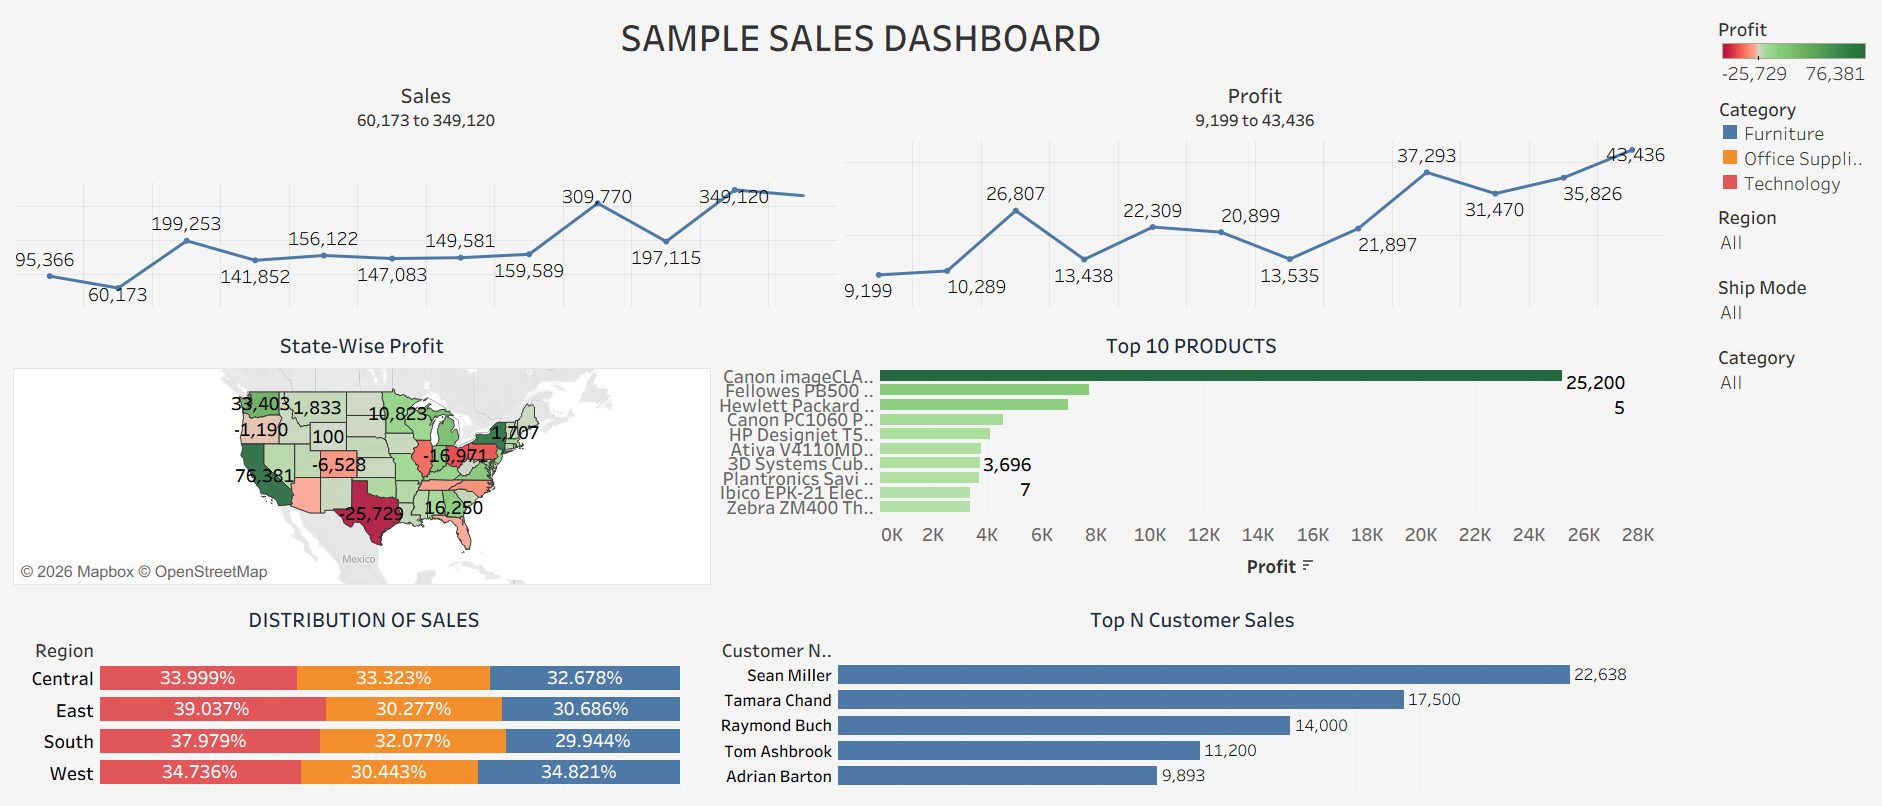

The dashboard page shown, as its layout file describes it:
{"tool":"tableau","page":{"name":"Dashboard 1","canvas":[1000,1000],"units":"permille","ordinal":0},"visuals":[{"type":"title","box":[5.1,10.6,888.2,77.1]},{"type":"legend","title":"State-Wise Profit","param":"[federated.0kkfki10p035gd15ha0as1qthaws].[sum:Profit:qk]","box":[893.3,10.6,101.6,107.7]},{"type":"worksheet","title":"Sales KPI","mark":"Line","rows":["Sales"],"cols":["Order Date"],"box":[5.6,88.1,440.8,299]},{"type":"worksheet","title":"Profit KPI","mark":"Line","rows":["Profit"],"cols":["Order Date"],"box":[446.4,88.1,440.8,299]},{"type":"legend","title":"DISTRIBUTION OF SALES","param":"[federated.0kkfki10p035gd15ha0as1qthaws].[none:Category:nk]","box":[893.3,118.4,101.6,145]},{"type":"filter","title":"State-Wise Profit","param":"[federated.0kkfki10p035gd15ha0as1qthaws].[none:Region:nk]","box":[893.3,263.3,101.6,93.1]},{"type":"filter","title":"State-Wise Profit","param":"[federated.0kkfki10p035gd15ha0as1qthaws].[none:Ship Mode:nk]","box":[893.3,356.4,101.6,93.1]},{"type":"worksheet","title":"State-Wise Profit","mark":"Multipolygon","box":[5,398.3,448.2,332.5]},{"type":"worksheet","title":"Top 10 PRODUCTS","mark":"Automatic","rows":["Product Name"],"cols":["Profit"],"box":[453.2,398.3,433.3,332.5]},{"type":"filter","title":"DISTRIBUTION OF SALES","param":"[federated.0kkfki10p035gd15ha0as1qthaws].[none:Category:nk]","box":[893.3,449.5,101.6,93.1]},{"type":"worksheet","title":"DISTRIBUTION OF SALES","mark":"Automatic","rows":["Region"],"box":[8.1,738.2,443.2,244.4]},{"type":"worksheet","title":"Top N Customer Sales","mark":"Bar","rows":["Customer Name"],"cols":["Sales"],"box":[451.3,738.2,437.1,244.4]}]}

Visuals, with their boxes on the dashboard's canvas, which has no fixed pixel size, in thousandths of its width and height (x1, y1, x2, y2). These are canvas units, not pixel positions in the 1882x806 screenshot, which may show the page scaled, cropped or inside an application window:
title: (x1=5, y1=11, x2=893, y2=88)
"State-Wise Profit" legend: (x1=893, y1=11, x2=995, y2=118)
"Sales KPI" worksheet (Line marks): (x1=6, y1=88, x2=446, y2=387)
"Profit KPI" worksheet (Line marks): (x1=446, y1=88, x2=887, y2=387)
"DISTRIBUTION OF SALES" legend: (x1=893, y1=118, x2=995, y2=263)
"State-Wise Profit" filter: (x1=893, y1=263, x2=995, y2=356)
"State-Wise Profit" filter: (x1=893, y1=356, x2=995, y2=450)
"State-Wise Profit" worksheet (Multipolygon marks): (x1=5, y1=398, x2=453, y2=731)
"Top 10 PRODUCTS" worksheet: (x1=453, y1=398, x2=886, y2=731)
"DISTRIBUTION OF SALES" filter: (x1=893, y1=450, x2=995, y2=543)
"DISTRIBUTION OF SALES" worksheet: (x1=8, y1=738, x2=451, y2=983)
"Top N Customer Sales" worksheet (Bar marks): (x1=451, y1=738, x2=888, y2=983)
